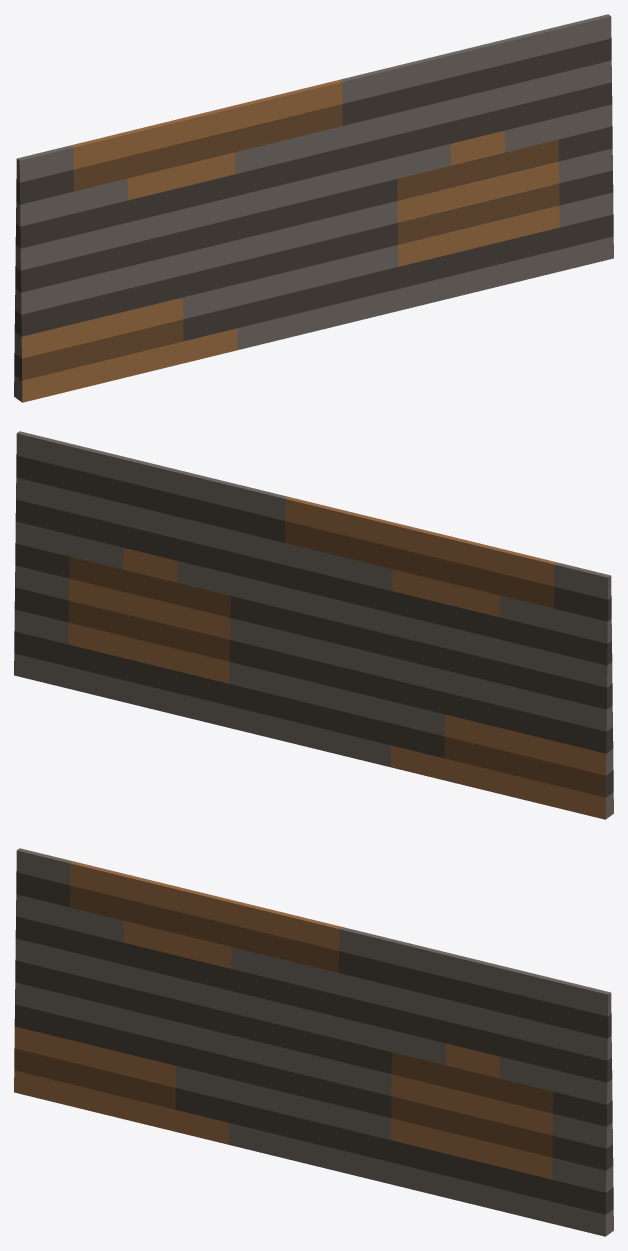
File: rusty roof.fbx
3 renders of one model, top to bottom at view 1: azimuth 30°, elevation 25°; view 2: azimuth 150°, elevation 25°; view 3: azimuth 330°, elevation 25°, orthographic.
Visible parts, largest first — view 1: Cube.001; view 2: Cube.001; view 3: Cube.001.
Part boxes in pixels (x1,y1,x2,y2): Cube.001: (14,14,613,402); Cube.001: (14,431,613,819); Cube.001: (14,848,613,1236).
Bounding box in the file's own units: 242 × 93.65 × 5.97.
